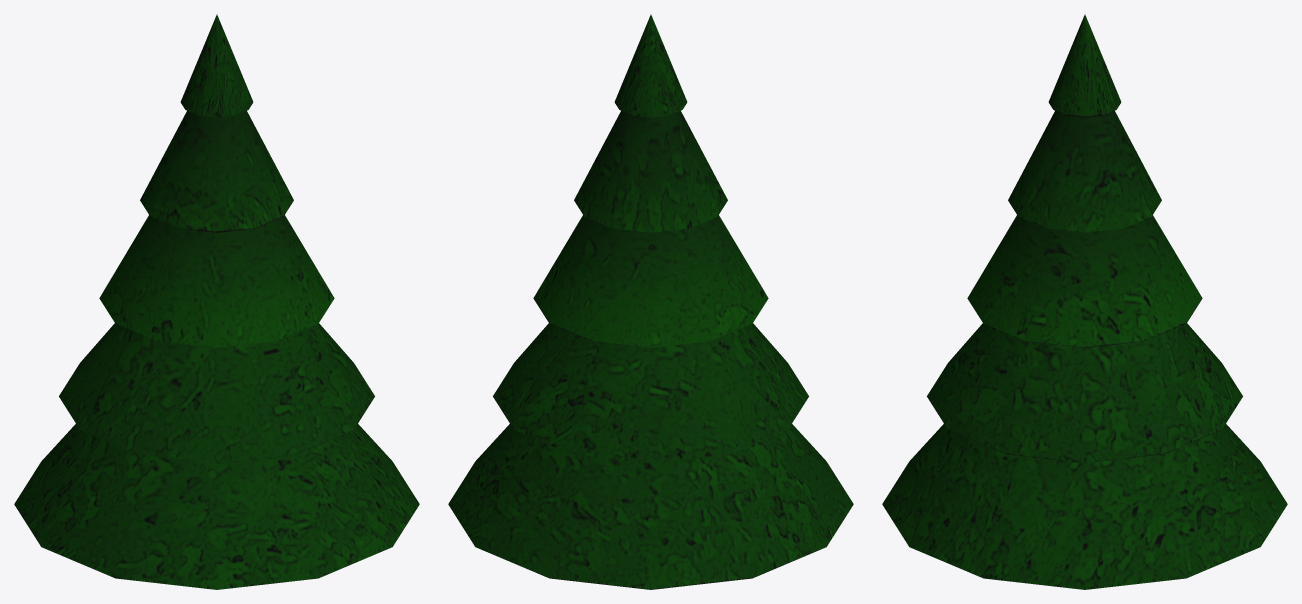
The model's file is TreeTop1.FBX.
3 views of the same model, side by side, from view 1: azimuth 30°, elevation 25°; view 2: azimuth 150°, elevation 25°; view 3: azimuth 270°, elevation 25° (orthographic).
Parts seen in each view (by area): view 1: Cone006; view 2: Cone006; view 3: Cone006.
Boxes of the visible parts, x1,y1,x2,y2 form: Cone006: [14, 14, 419, 589]; Cone006: [448, 14, 853, 589]; Cone006: [882, 14, 1287, 589].
Size of the model in its own units: 118 by 157 by 118.
